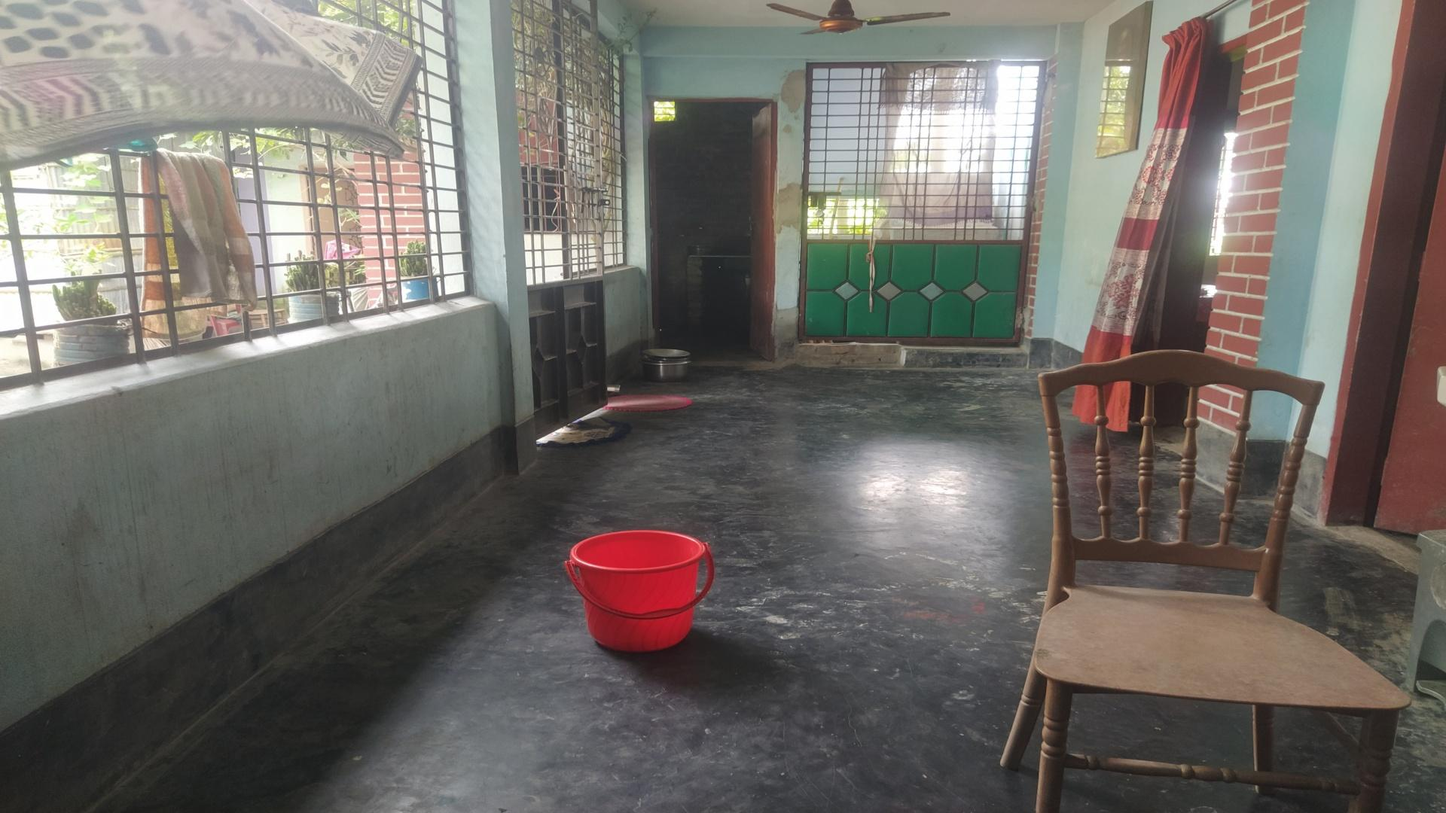Bucket: (565, 537, 711, 654)
Chair: (1035, 368, 1410, 813)
Door: (802, 61, 1038, 351), (644, 92, 777, 361)
